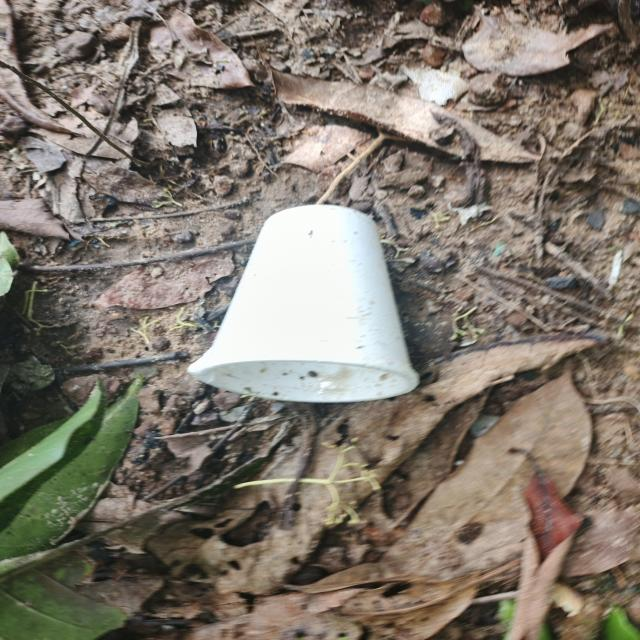plastic: (187, 189, 434, 411)
